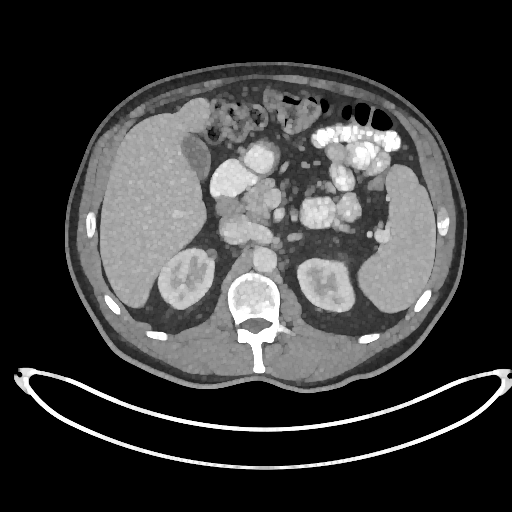Lesion: (203, 246, 221, 261)
